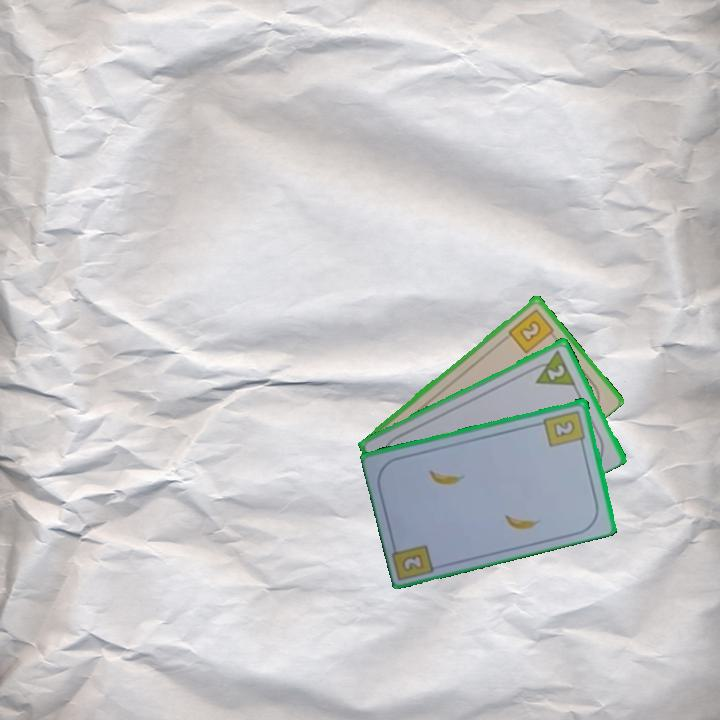2b: (505, 305, 559, 356), (541, 406, 588, 449), (400, 552, 424, 572)
2p: (544, 360, 568, 383)
